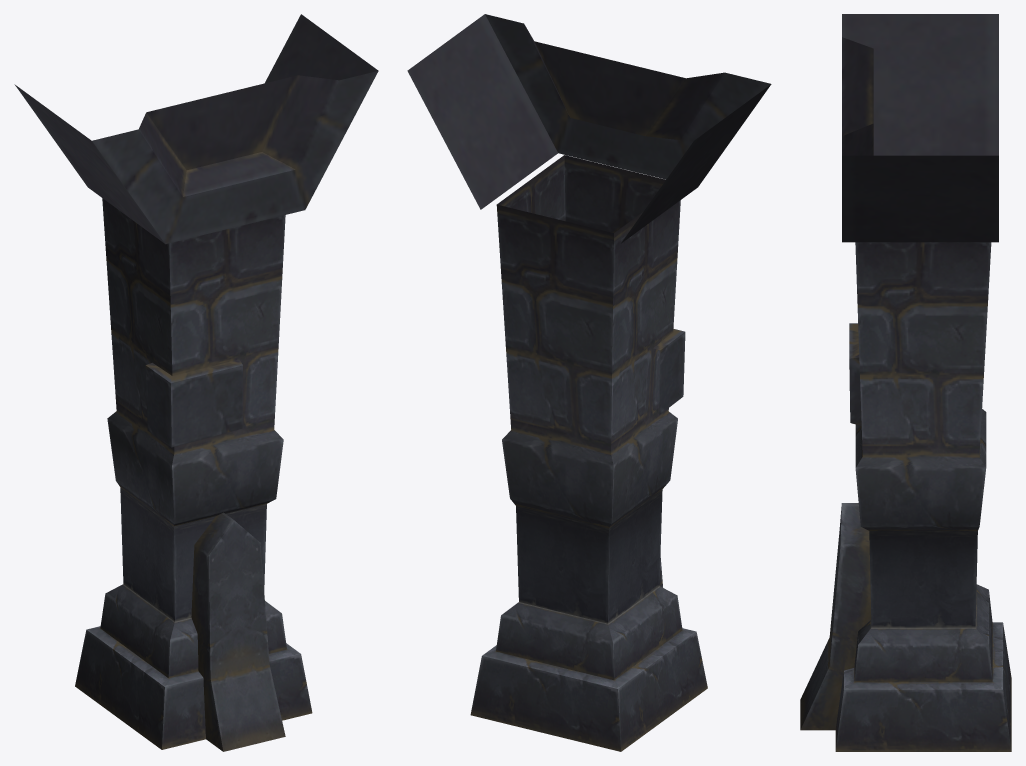
File: common_underground_dashizhu.FBX
The picture shows the model from 3 angles, left to right: view 1: azimuth 30°, elevation 25°; view 2: azimuth 150°, elevation 25°; view 3: azimuth 270°, elevation 25°; orthographic projection.
Visible parts, largest first — view 1: common_underground_dashizhu; view 2: common_underground_dashizhu; view 3: common_underground_dashizhu.
Boxes of the visible parts, left/top/right/bottom form: common_underground_dashizhu: left=14, top=14, right=378, bottom=751; common_underground_dashizhu: left=407, top=14, right=771, bottom=751; common_underground_dashizhu: left=800, top=14, right=1011, bottom=751.
Bounding box in the file's own units: 7.6 × 15.79 × 4.79.
